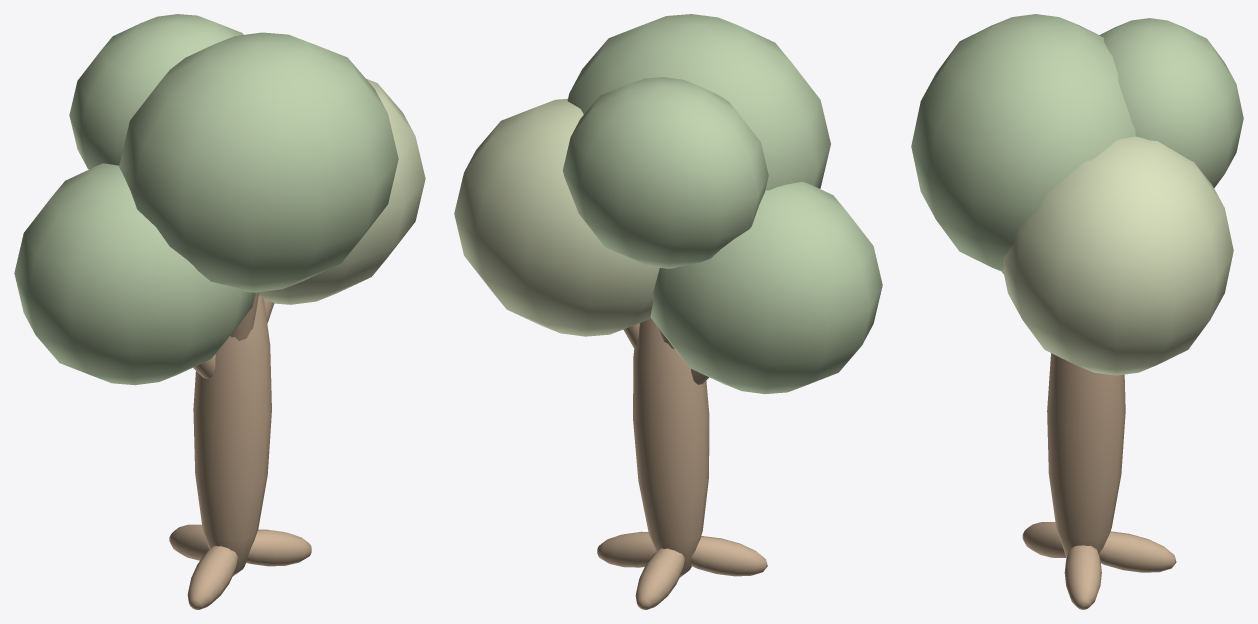
File: tree-standing.glb
3 views of the same model, side by side, from view 1: azimuth 30°, elevation 25°; view 2: azimuth 150°, elevation 25°; view 3: azimuth 270°, elevation 25° (orthographic). The views are drawn at different scales.
Visible parts, largest first — view 1: Rounded canopy.002, Rounded canopy, Tapering trunk, Rounded canopy.003, Rounded canopy.001, Root.002, Root, Root.001; view 2: Rounded canopy, Rounded canopy.003, Rounded canopy.001, Rounded canopy.002, Tapering trunk, Root.002, Root.001, Root; view 3: Rounded canopy.001, Rounded canopy.002, Rounded canopy.003, Tapering trunk, Root.001, Root, Root.002.
Boxes of the visible parts, <box> form: Rounded canopy.002: <box>119,32,398,292</box>; Rounded canopy: <box>14,163,255,385</box>; Tapering trunk: <box>193,295,271,576</box>; Rounded canopy.003: <box>69,14,243,169</box>; Rounded canopy.001: <box>259,78,425,304</box>; Root.002: <box>187,545,237,609</box>; Root: <box>246,529,311,566</box>; Root.001: <box>169,524,209,560</box>; Rounded canopy: <box>650,181,882,394</box>; Rounded canopy.003: <box>563,77,768,268</box>; Rounded canopy.001: <box>454,98,659,336</box>; Rounded canopy.002: <box>567,14,830,190</box>; Tapering trunk: <box>633,318,709,578</box>; Root.002: <box>690,536,767,576</box>; Root.001: <box>635,548,684,609</box>; Root: <box>597,531,656,567</box>; Rounded canopy.001: <box>1003,136,1233,375</box>; Rounded canopy.002: <box>911,14,1135,272</box>; Rounded canopy.003: <box>1099,18,1243,187</box>; Tapering trunk: <box>1047,353,1125,557</box>; Root.001: <box>1099,531,1176,572</box>; Root: <box>1064,545,1101,609</box>; Root.002: <box>1022,522,1066,557</box>.
Size of the model in its own units: 2.23 by 2.94 by 1.61.
